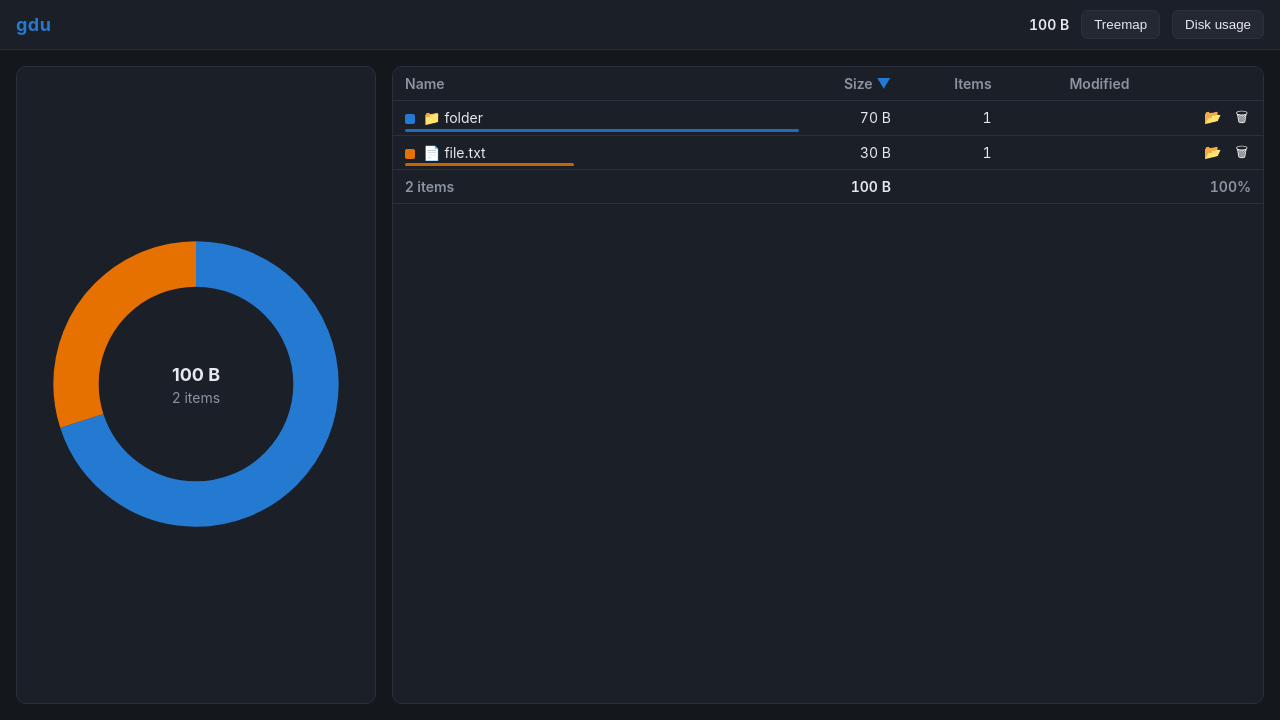
Test case: table actions › shows the error when the delete fails
Click the button named "Delete file.txt" at point(1242, 152), box [1228, 140, 1255, 165]
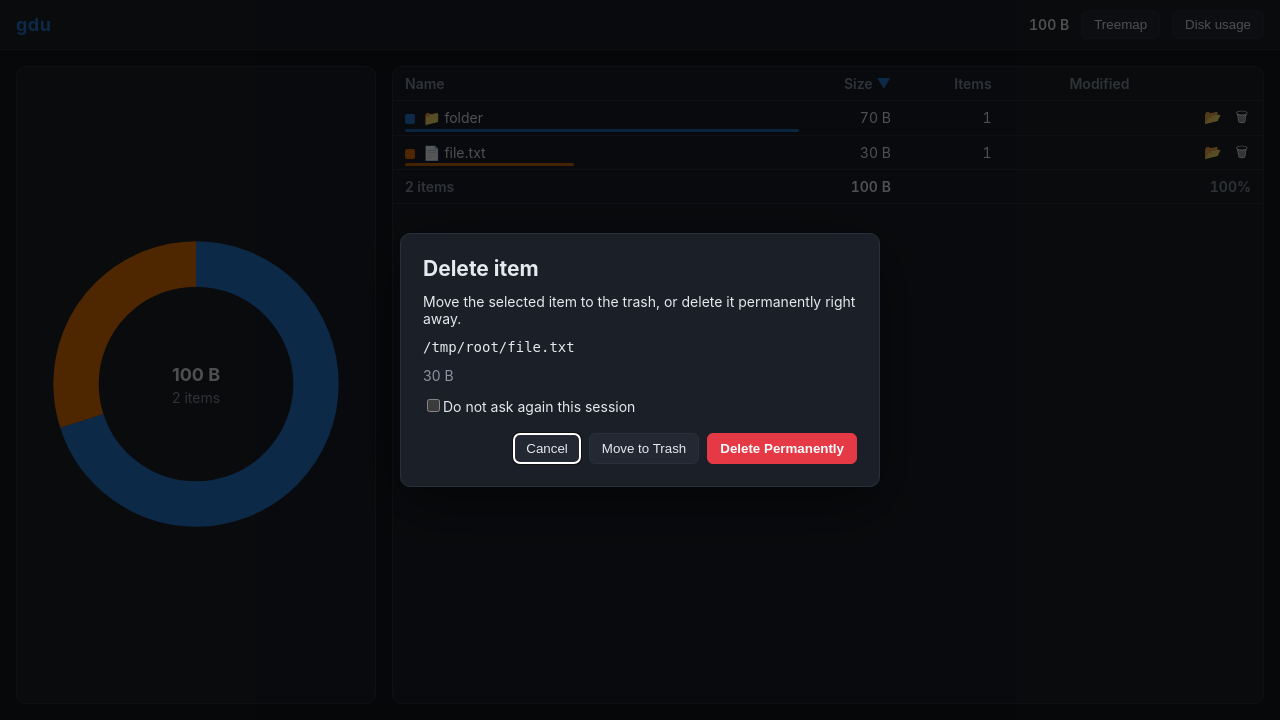
Click the button "Move to Trash" at point(644, 448), box [589, 433, 699, 464]
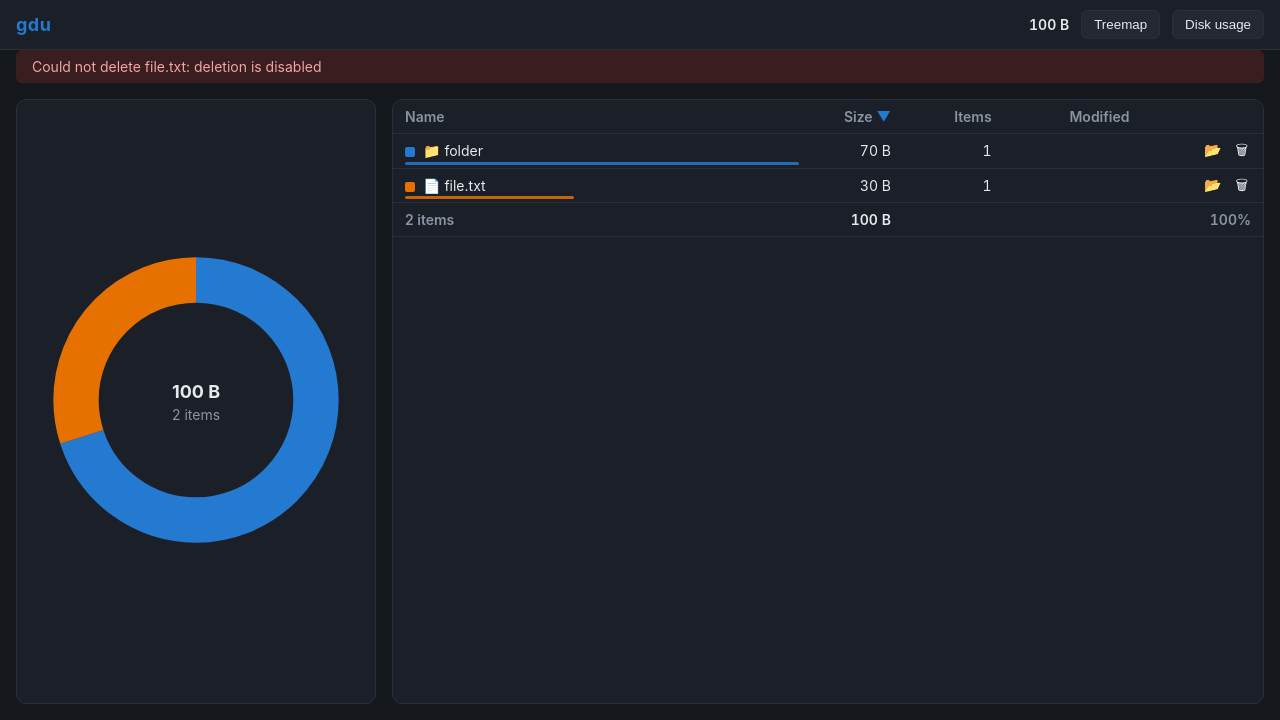
expect the text "Could not delete file.txt: deletion is disabled" is shown: met, box [16, 50, 1264, 83]
